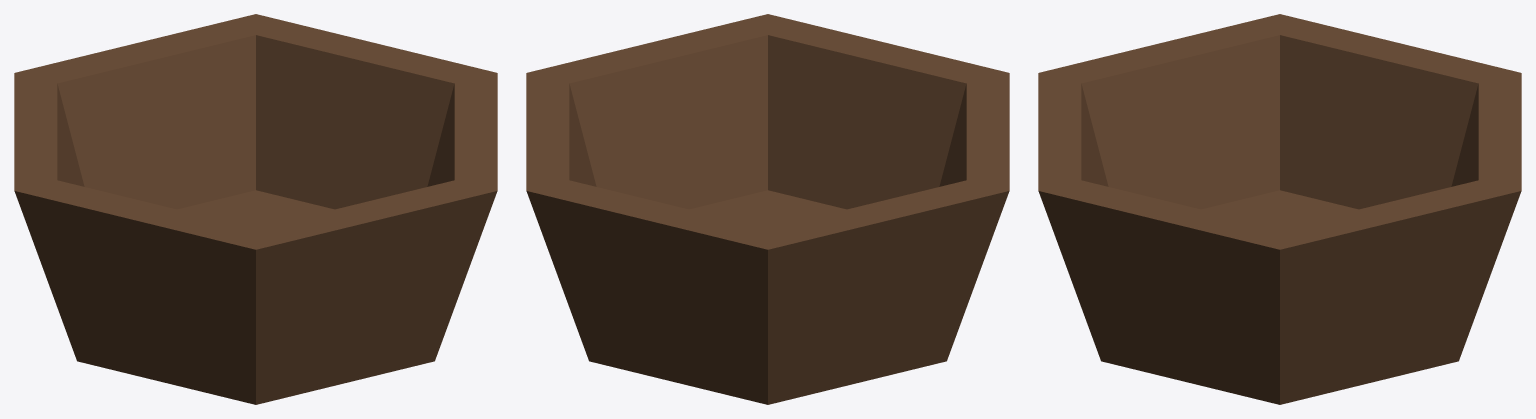
File: basin_mat.fbx
3 renders of one model, left to right at view 1: azimuth 30°, elevation 25°; view 2: azimuth 150°, elevation 25°; view 3: azimuth 270°, elevation 25°, orthographic.
Visible parts, largest first — view 1: basin_mat; view 2: basin_mat; view 3: basin_mat.
Part boxes in pixels (x1,y1,x2,y2): basin_mat: (14,14,497,404); basin_mat: (526,14,1009,404); basin_mat: (1038,14,1521,404).
Size of the model in its own units: 54.03 by 19.85 by 46.79.
